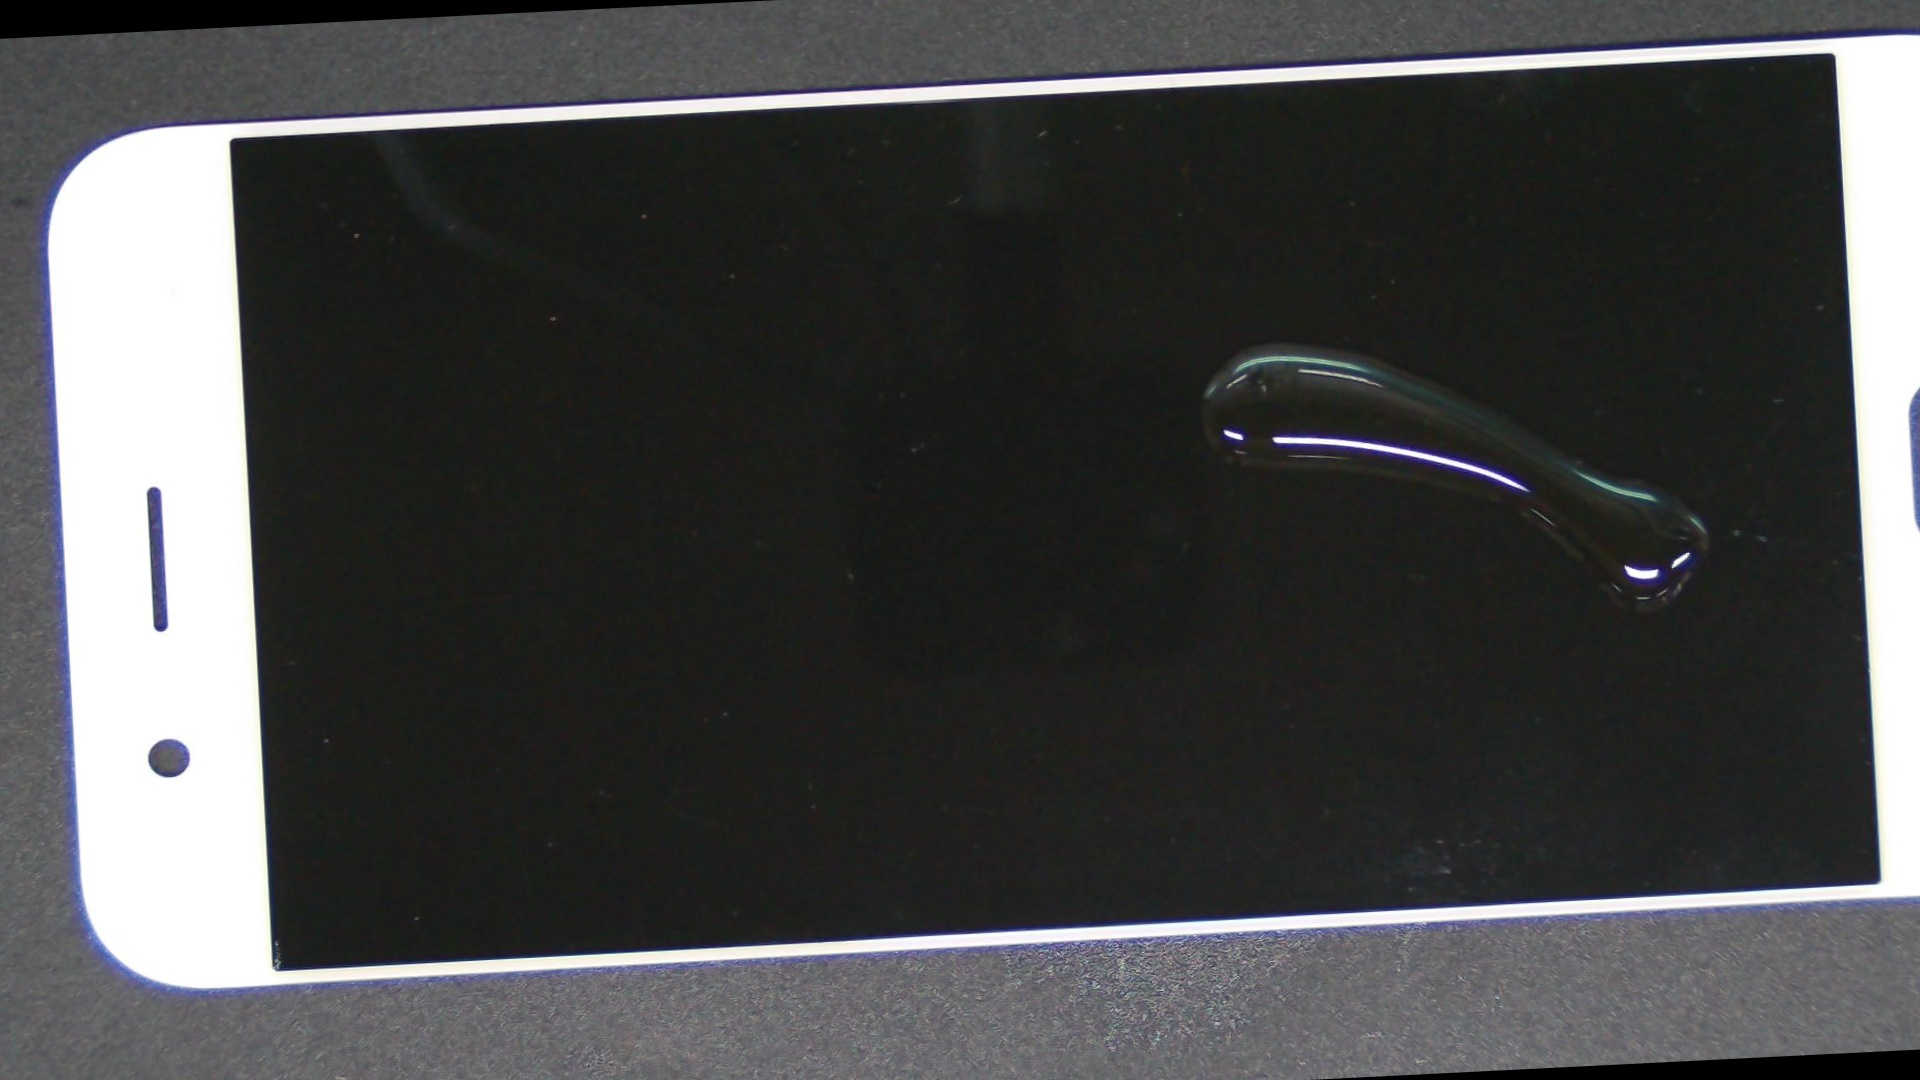oil: (603, 128, 1917, 560)
